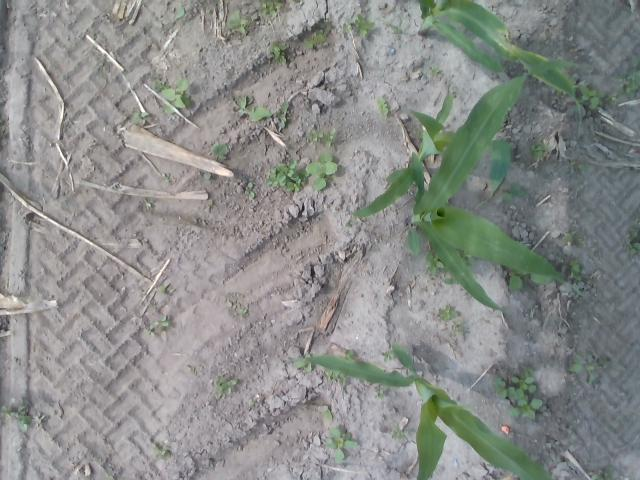Maize: (406, 61, 596, 319), (293, 345, 556, 480), (348, 84, 514, 222), (416, 0, 584, 132)
Weeds: (494, 366, 542, 420), (264, 159, 309, 192), (154, 77, 192, 115), (306, 154, 338, 192), (324, 427, 358, 462), (569, 77, 605, 110), (249, 102, 289, 129), (568, 352, 598, 384), (616, 60, 640, 98), (342, 12, 376, 38), (304, 19, 330, 48), (304, 127, 336, 149), (424, 248, 450, 275), (556, 258, 582, 282), (214, 376, 238, 400), (227, 8, 249, 34), (144, 316, 171, 336), (501, 183, 528, 203), (12, 405, 32, 431), (234, 95, 256, 117), (508, 268, 528, 292), (562, 228, 586, 248), (624, 226, 640, 256), (528, 138, 552, 158), (257, 0, 282, 19), (454, 246, 476, 267), (267, 40, 287, 63), (161, 8, 185, 26), (324, 367, 346, 386), (294, 354, 313, 374), (437, 304, 457, 322), (382, 17, 402, 34), (590, 466, 614, 480), (211, 143, 229, 161), (152, 442, 170, 459), (390, 426, 409, 441), (449, 321, 466, 337), (375, 97, 389, 116), (131, 111, 148, 126), (318, 405, 333, 421), (606, 92, 620, 107), (372, 387, 386, 400), (381, 350, 396, 362), (244, 182, 255, 198), (33, 412, 47, 424), (570, 162, 588, 171), (0, 405, 11, 418), (344, 348, 354, 362), (444, 277, 461, 285), (156, 283, 167, 294), (428, 66, 440, 76), (556, 88, 568, 98), (105, 474, 121, 480), (145, 200, 154, 210), (161, 172, 169, 183), (188, 367, 197, 375), (344, 221, 354, 228), (241, 308, 248, 318), (203, 172, 212, 179), (248, 401, 256, 408), (207, 199, 213, 205)
